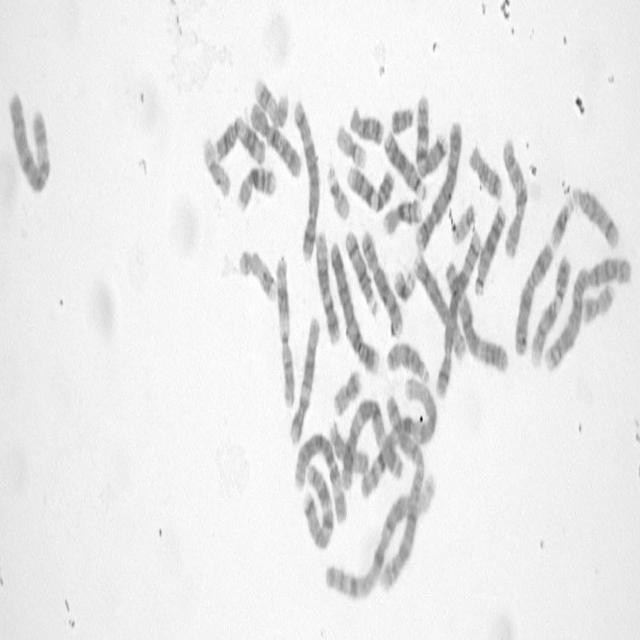A1: (322, 470, 438, 603), (357, 373, 437, 502)
A2: (541, 248, 633, 376), (380, 396, 425, 596)
A3: (442, 256, 509, 376), (339, 394, 405, 494)
B4: (328, 234, 380, 377), (413, 116, 463, 254)
B5: (434, 223, 482, 402), (292, 96, 321, 264)
C10: (248, 98, 302, 180), (499, 133, 528, 259)
C11: (274, 250, 296, 410), (212, 113, 266, 166)
C12: (287, 313, 321, 446), (314, 226, 342, 346)
C6: (292, 425, 347, 527), (6, 85, 52, 197)
C7: (301, 456, 334, 550), (413, 91, 446, 177)
C8: (412, 247, 467, 364), (359, 224, 403, 340)
C9: (528, 250, 572, 368), (344, 160, 396, 214)
D13: (382, 126, 427, 202), (472, 201, 507, 297)
D14: (570, 181, 620, 252), (343, 225, 378, 318)
D15: (326, 417, 369, 475), (385, 336, 431, 387)
E16: (238, 160, 280, 208), (381, 194, 422, 238)
E17: (236, 244, 278, 306), (252, 74, 290, 130)
E18: (467, 141, 503, 202), (348, 102, 384, 148)
F19: (200, 132, 232, 202), (334, 121, 368, 170)
F20: (580, 278, 616, 327), (332, 365, 362, 418)
G21: (548, 193, 574, 250), (392, 262, 416, 304)
G22: (325, 161, 350, 222), (451, 198, 476, 246)
X: (512, 236, 554, 358)
Y: (390, 102, 414, 136)
